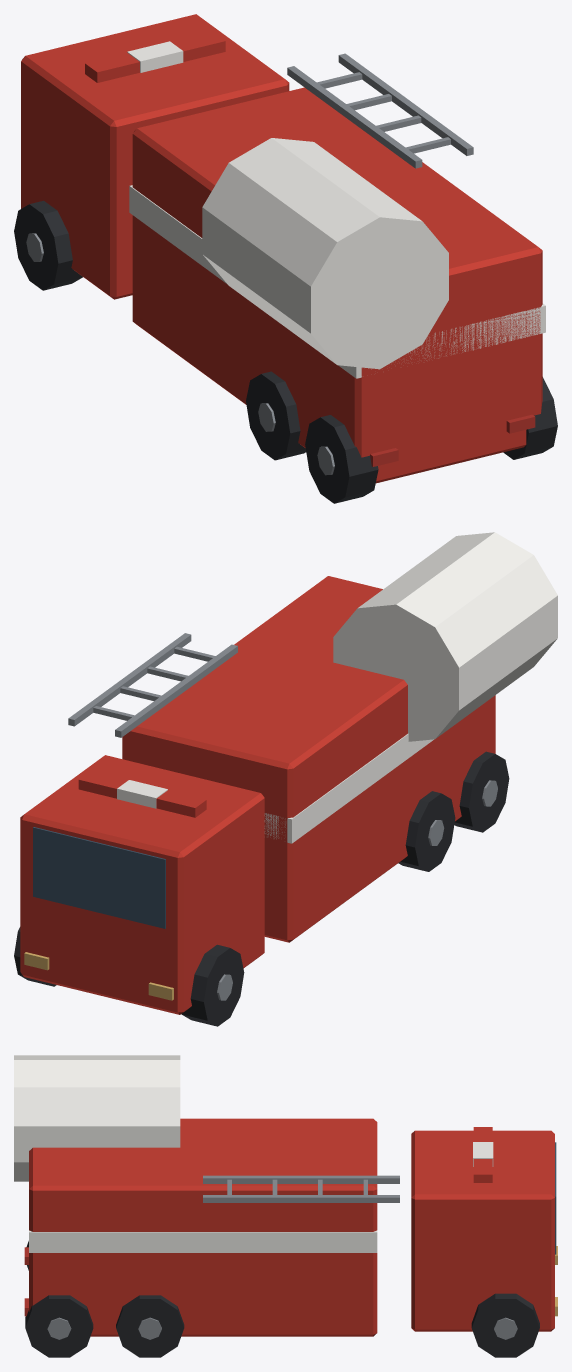
The model's file is vehicle.fire-truck.glb.
3 views of the same model, one above another, from view 1: azimuth 30°, elevation 25°; view 2: azimuth 150°, elevation 25°; view 3: azimuth 270°, elevation 25° (orthographic). The views are drawn at different scales.
Parts seen in each view (by area): view 1: vehicle.fire-truck; view 2: vehicle.fire-truck; view 3: vehicle.fire-truck.
Part boxes in pixels (x1,y1,x2,y2): vehicle.fire-truck: [14, 14, 557, 503]; vehicle.fire-truck: [14, 532, 557, 1026]; vehicle.fire-truck: [14, 1055, 557, 1357].
Bounding box in the file's own units: 3.35 × 3.33 × 7.19.
